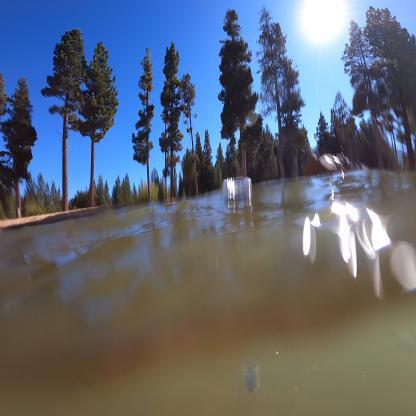Rác: (214, 173, 275, 397)
